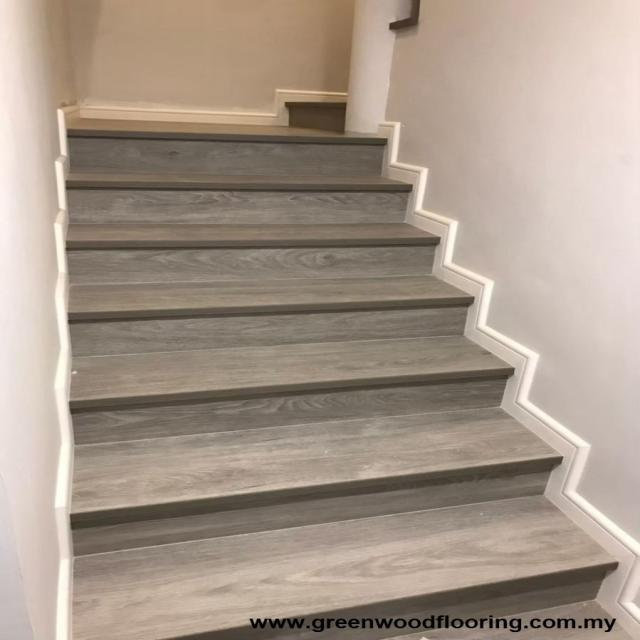Stairs: (34, 35, 640, 612)
